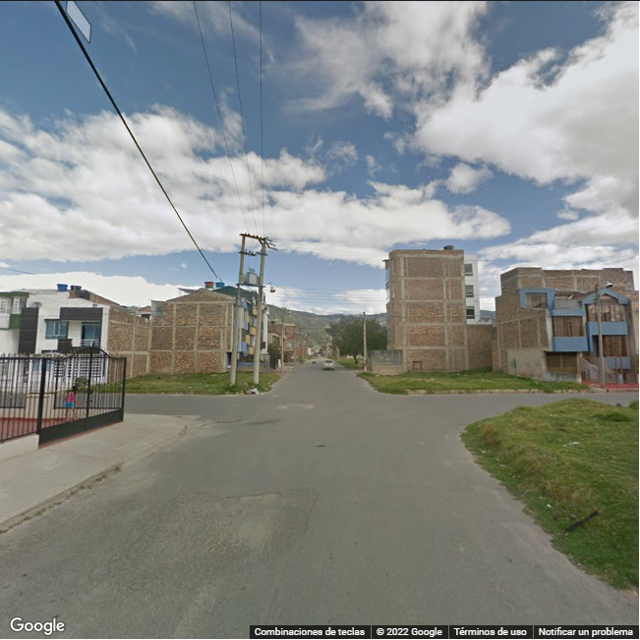D00: (266, 554, 291, 630), (302, 486, 323, 544)
D20: (86, 495, 243, 594)
